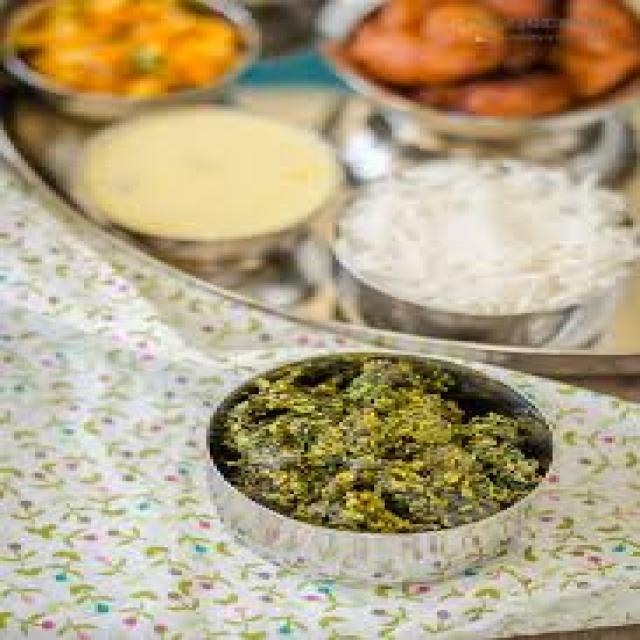dal: (27, 113, 330, 253)
papad: (333, 157, 619, 316)
rice: (333, 160, 614, 319)
veg-fry: (205, 345, 548, 529), (325, 0, 536, 100)
